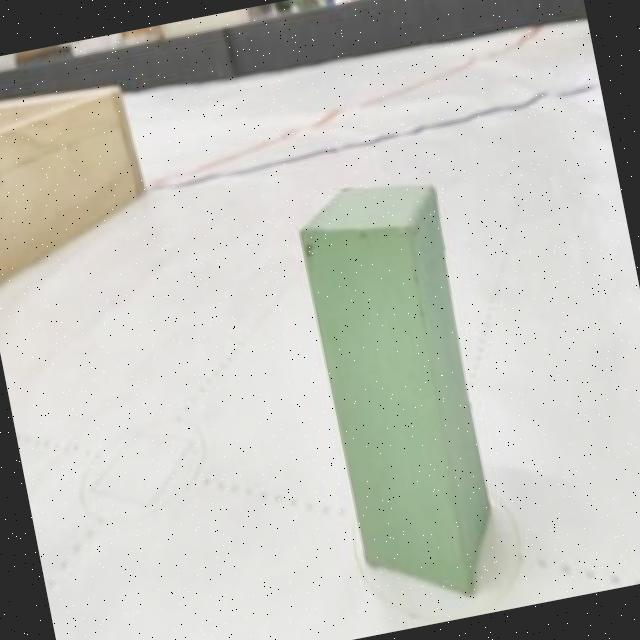greenbox: (290, 165, 520, 616)
